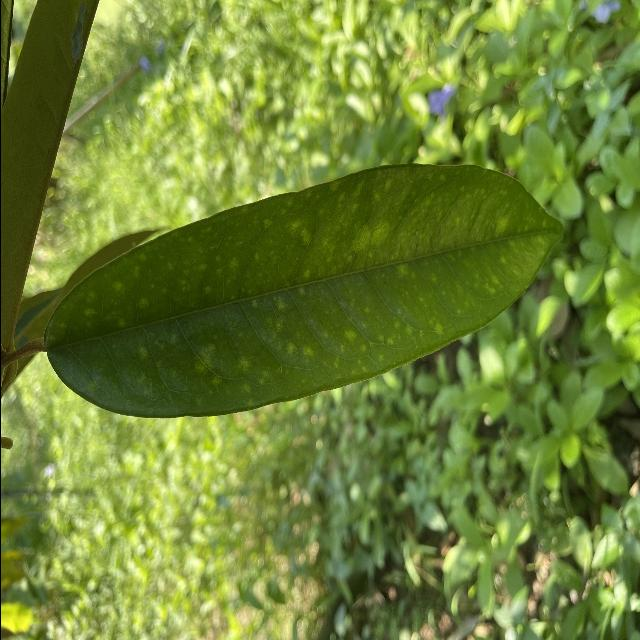Leaf Spot: (43, 154, 573, 421)
